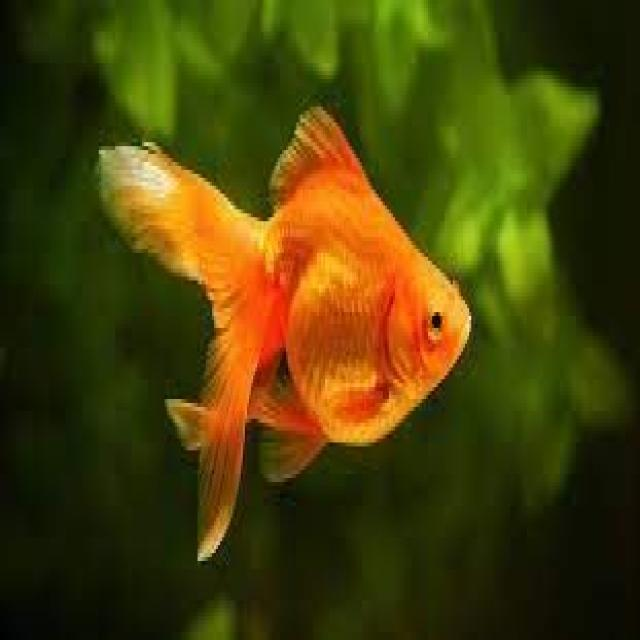Gold-Fish: (72, 50, 501, 546)
